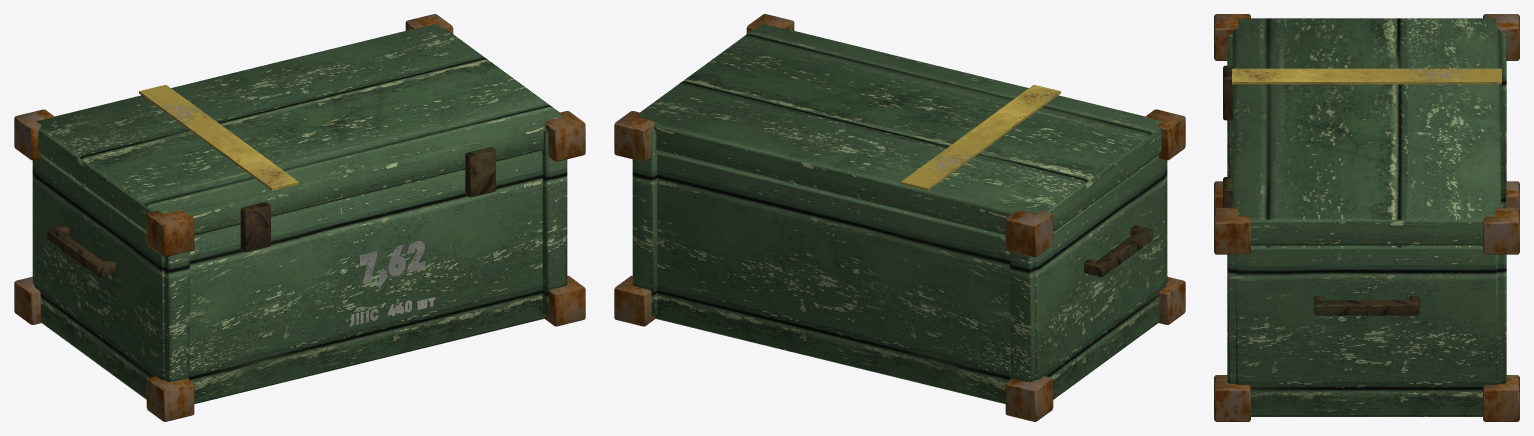
The model's file is deploy_box.glb.
3 views of the same model, side by side, from view 1: azimuth 30°, elevation 25°; view 2: azimuth 150°, elevation 25°; view 3: azimuth 270°, elevation 25° (orthographic).
Visible parts, largest first — view 1: box, box.001, box.020, box.003, box.002, box.005, box.004, box.009, box.008, box.019, box.018, stencil (+4 smaller); view 2: box, box.001, box.020, box.003, box.002, box.007, box.006, box.011, box.010, box.005, box.012, box.004; view 3: box.001, box, box.020, box.003, box.015, box.009, box.011, box.008, box.010, box.002, box.005, box.007 (+3 smaller).
Part boxes in pixels (x1,y1,x2,y2): box: [34, 151, 544, 403]; box.001: [36, 24, 563, 235]; box.020: [139, 84, 298, 190]; box.003: [541, 129, 567, 316]; box.002: [32, 160, 189, 382]; box.005: [146, 210, 194, 257]; box.004: [146, 376, 194, 421]; box.009: [545, 111, 585, 161]; box.008: [544, 275, 585, 326]; box.019: [465, 147, 495, 197]; box.018: [240, 202, 270, 252]; stencil: [360, 241, 425, 287]; box: [655, 151, 1165, 403]; box.001: [636, 24, 1163, 235]; box.020: [901, 84, 1060, 190]; box.003: [632, 129, 658, 316]; box.002: [1010, 160, 1167, 382]; box.007: [1005, 208, 1053, 257]; box.006: [1005, 376, 1053, 421]; box.011: [614, 111, 654, 161]; box.010: [614, 275, 655, 326]; box.005: [1145, 109, 1185, 160]; box.012: [1093, 227, 1152, 276]; box.004: [1158, 276, 1185, 324]; box.001: [1232, 18, 1501, 245]; box: [1236, 246, 1497, 416]; box.020: [1232, 68, 1501, 84]; box.003: [1227, 245, 1506, 383]; box.015: [1314, 300, 1419, 315]; box.009: [1214, 207, 1250, 254]; box.011: [1483, 207, 1519, 254]; box.008: [1214, 375, 1250, 421]; box.010: [1483, 375, 1519, 421]; box.002: [1227, 34, 1506, 207]; box.005: [1214, 14, 1250, 60]; box.007: [1483, 14, 1519, 60].
Size of the model in its own units: 1.02 by 0.425 by 0.58.
5 materials, 5 textured.
